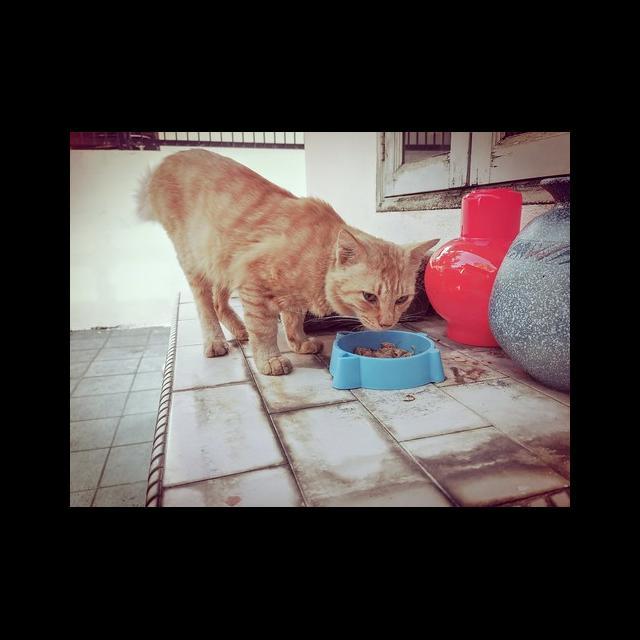animals: (137, 148, 440, 376)
